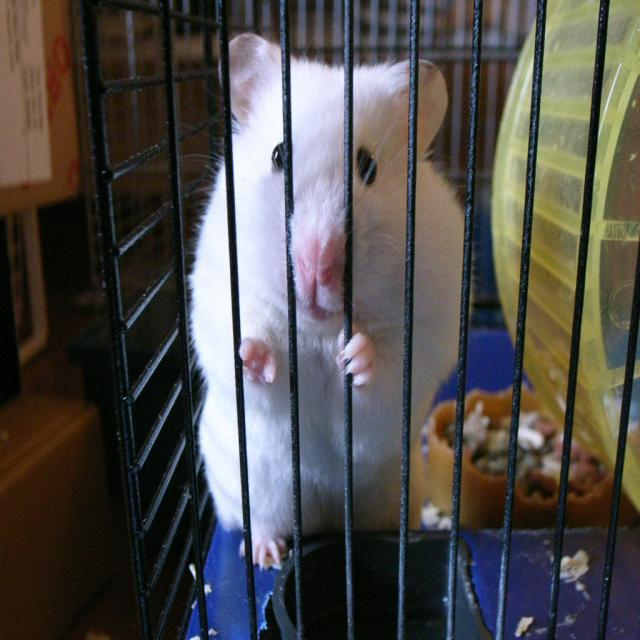rat: (194, 28, 466, 573)
